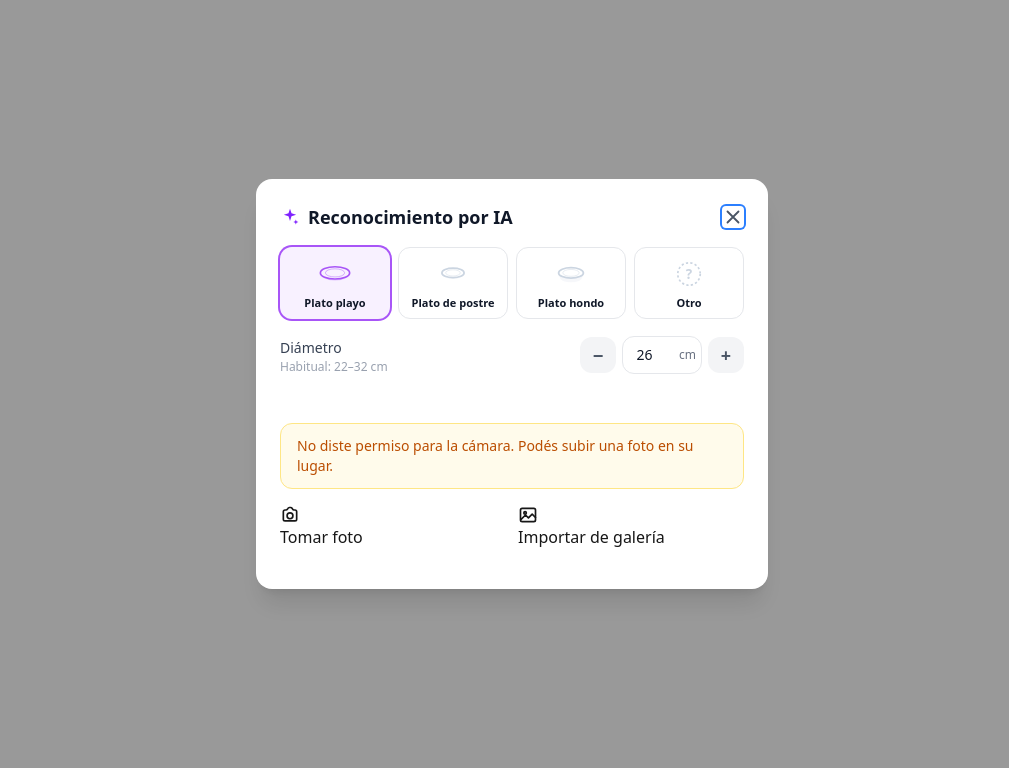
Test: AIRecognitionModal — Pantalla 1 unificada (NUT-169) › un diámetro fuera de rango muestra el error y oculta la cámara
Click the radio button "Plato playo": x=335, y=283 x1=280 y1=247 x2=390 y2=319
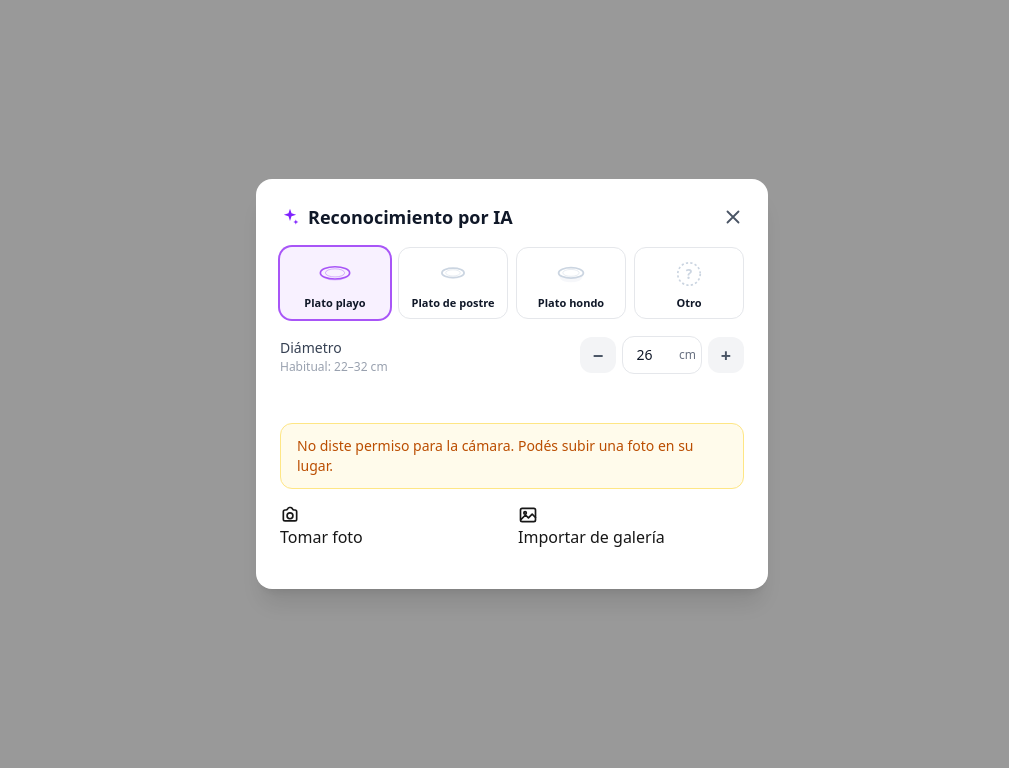
Clear the number field labelled "Diámetro": x=662, y=355 x1=622 y1=336 x2=702 y2=374
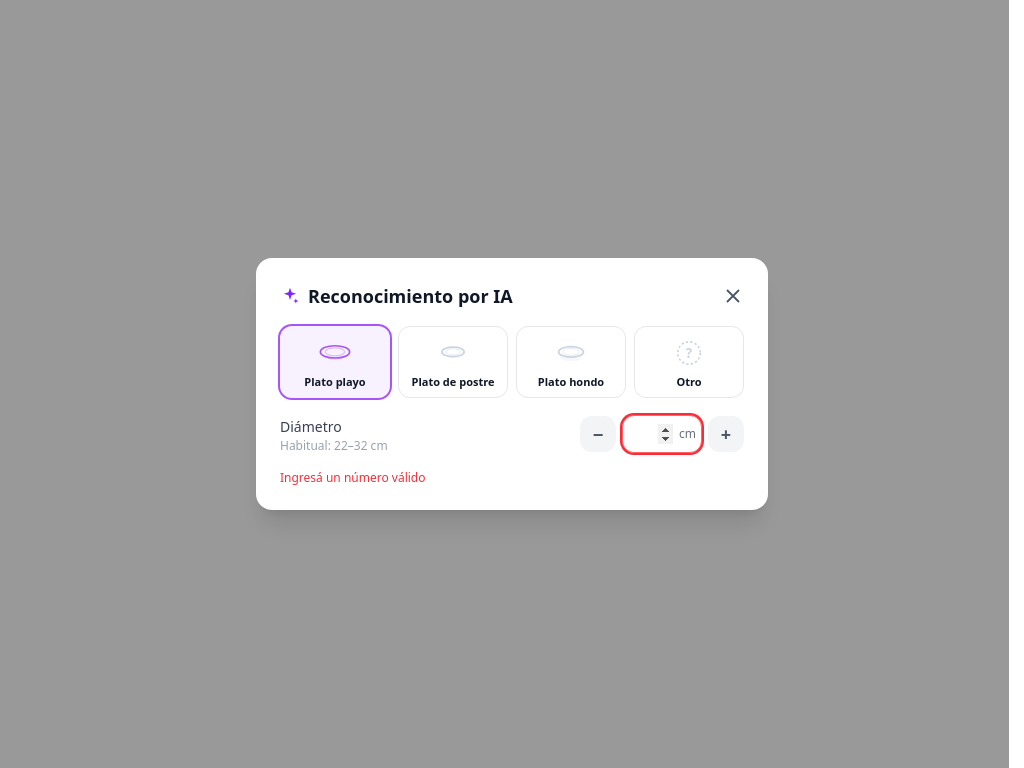
In the number field labelled "Diámetro": x=662, y=434 x1=622 y1=415 x2=702 y2=453, type "80"
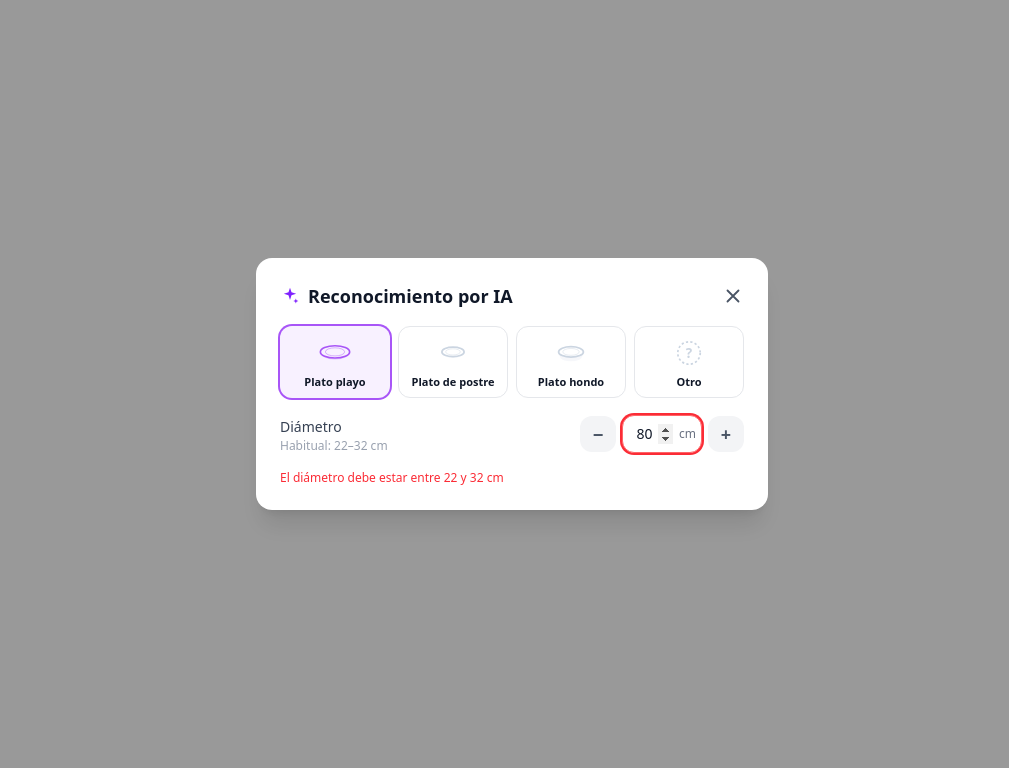
Expected: the text "Importar de galería" is not shown
Expected: the text "El diámetro debe estar entre 22 y 32 cm" is shown, x1=280 y1=469 x2=504 y2=486
